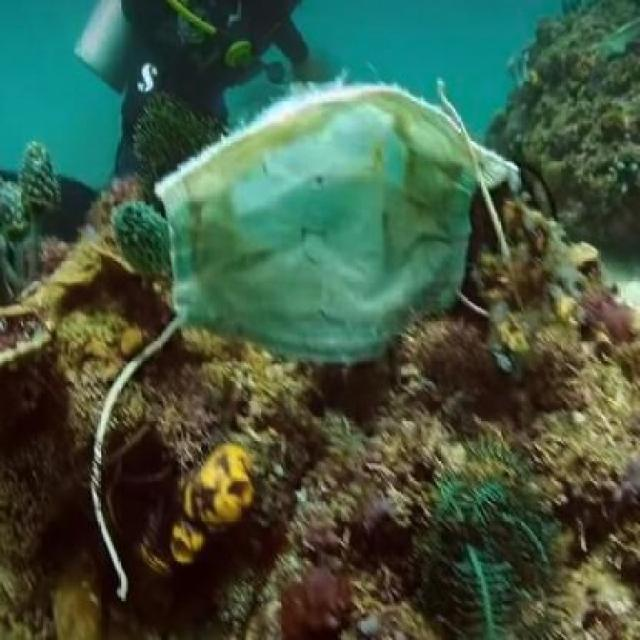Mask: (140, 77, 525, 372)
